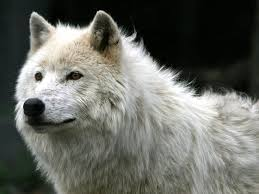Lobo: (11, 6, 229, 190)
